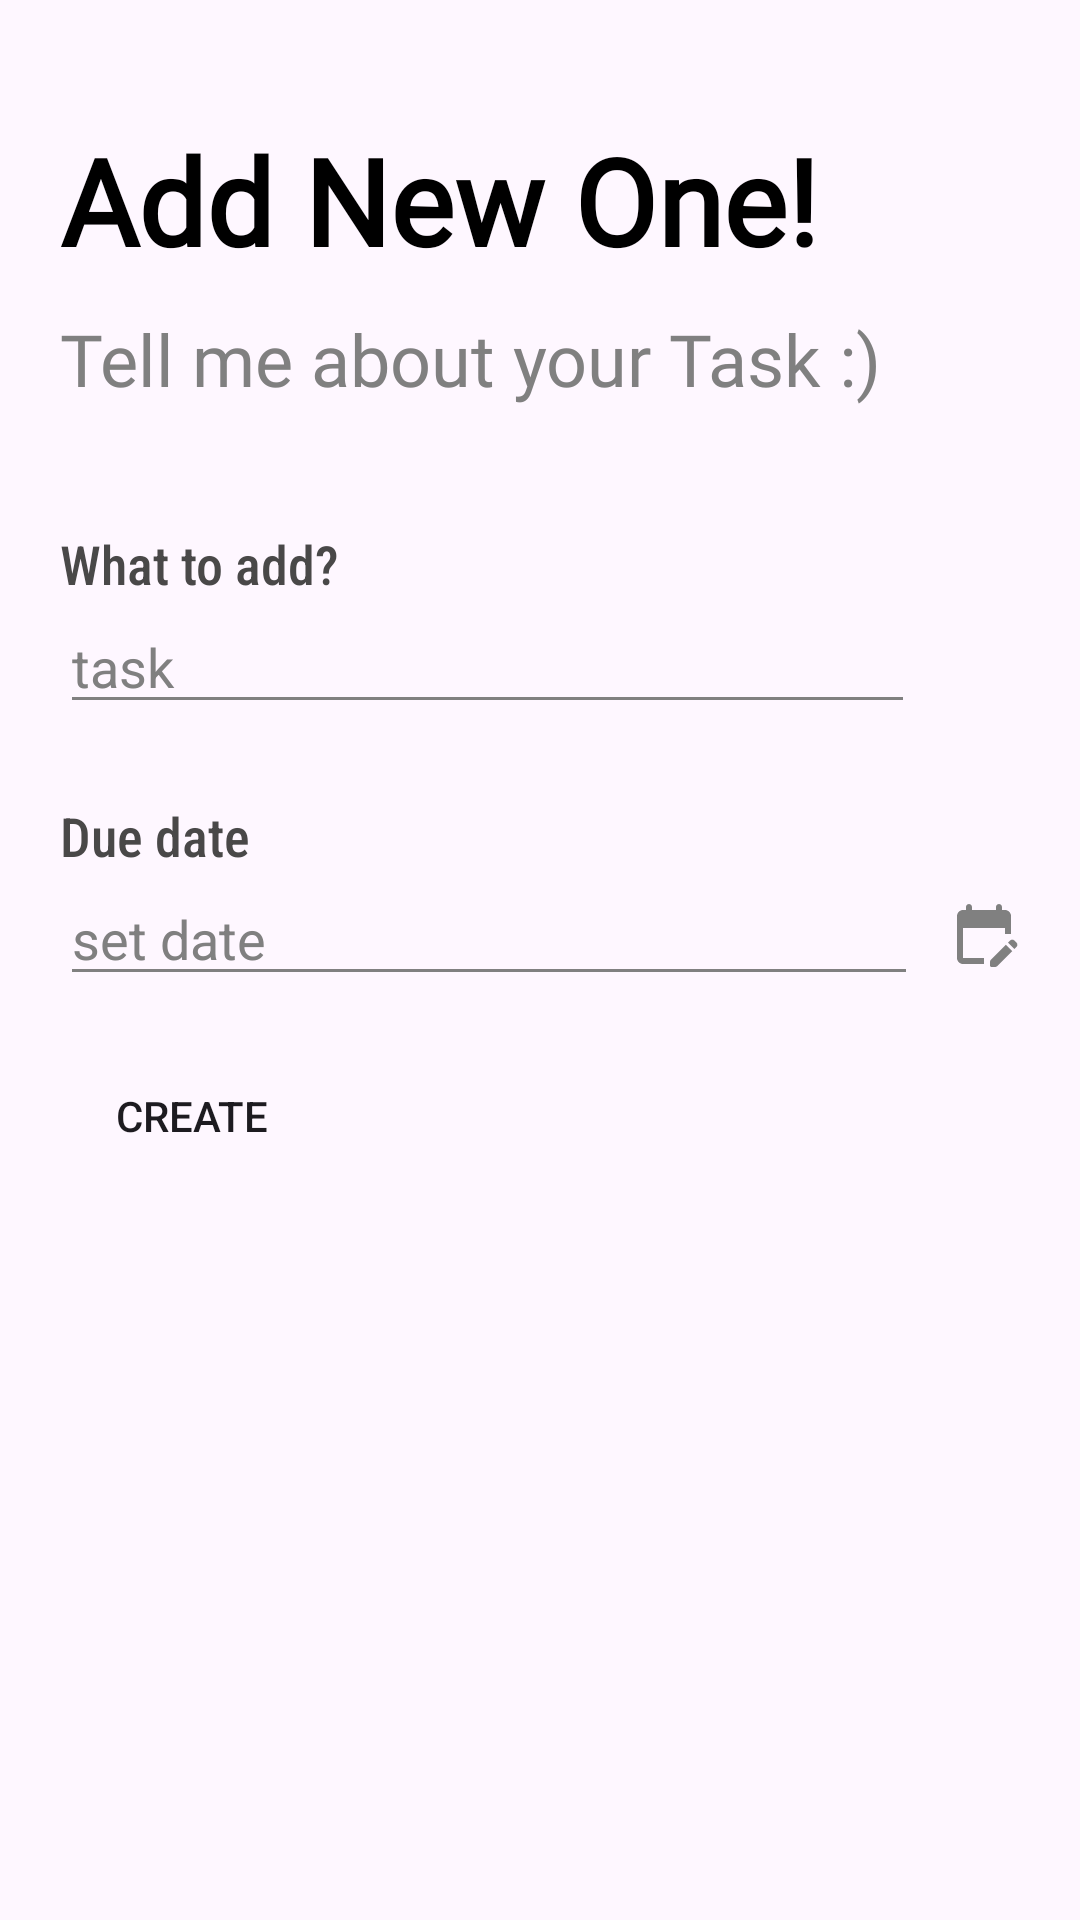

Screen size 1080w x 1920h. Icon name, then its box in pixels as (x1, y1, x2, y2):
calendar: (957, 904, 1018, 967)
